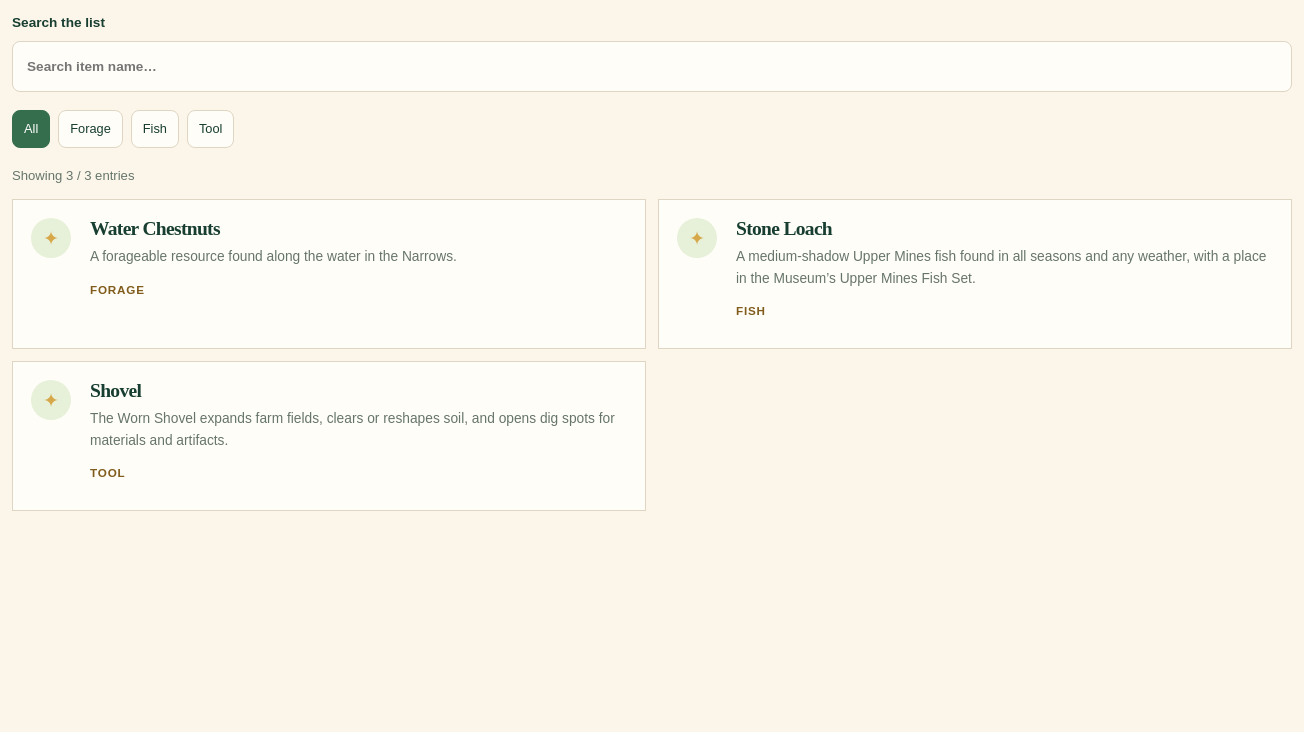
Test: ItemBrowser › announces result counts and explains an empty filtered list
Check: the message reads "Showing 3 / 3 entries", box [12,168,134,183]
Type "missing" into the search field at (652, 67), box [12,41,1292,92]
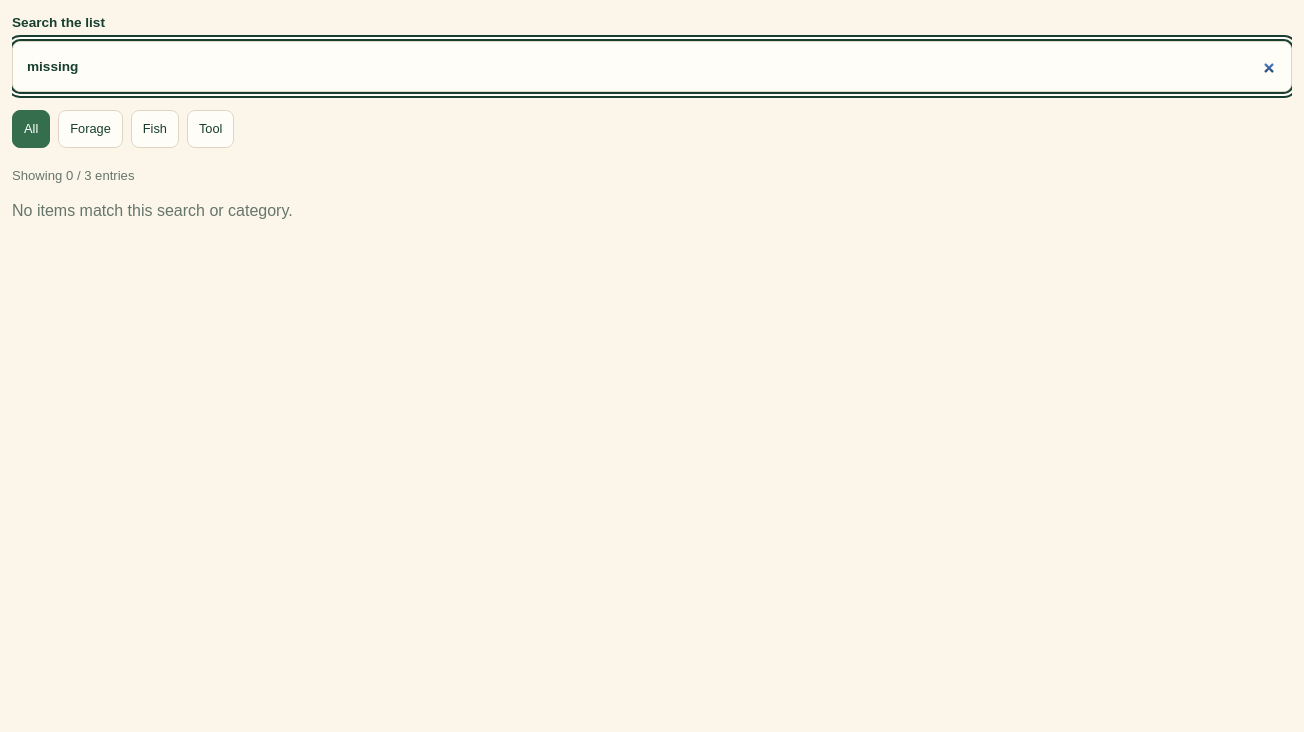
Check: the message reads "Showing 0 / 3 entries", box [12,168,134,183]
Check: the text "No items match this search or category." is shown, box [12,202,293,219]
